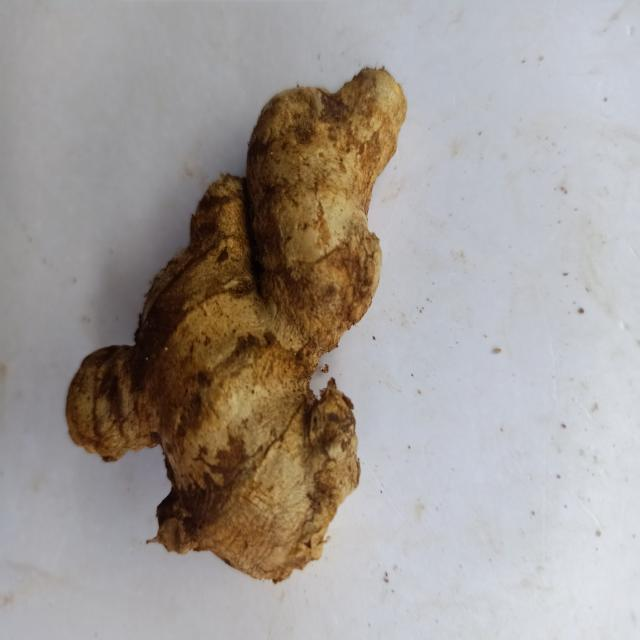Ginger: (65, 68, 406, 582)
